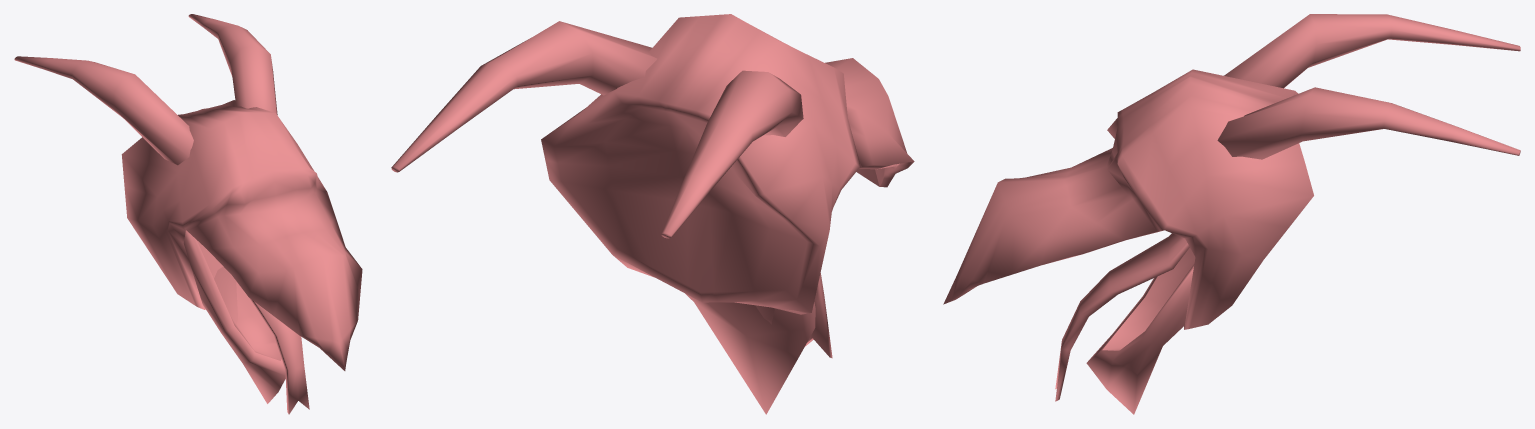
File: Mask_Gargoyle.fbx
3 views of the same model, side by side, from view 1: azimuth 30°, elevation 25°; view 2: azimuth 150°, elevation 25°; view 3: azimuth 270°, elevation 25° (orthographic). The views are drawn at different scales.
Parts seen in each view (by area): view 1: Mask_Gargoyle; view 2: Mask_Gargoyle; view 3: Mask_Gargoyle.
Part boxes in pixels (bbox=[...]): Mask_Gargoyle: bbox=[14, 14, 362, 414]; Mask_Gargoyle: bbox=[391, 14, 914, 414]; Mask_Gargoyle: bbox=[943, 14, 1520, 414].
Size of the model in its own units: 133 by 202 by 297.
